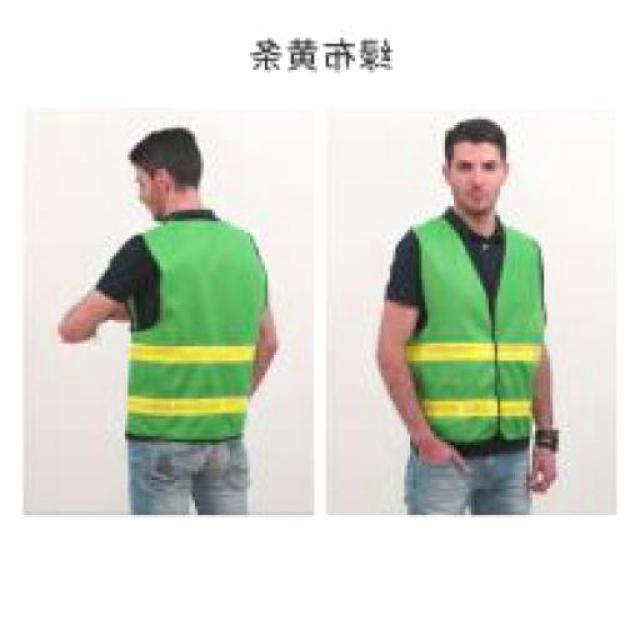face_nomask: (450, 149, 506, 209)
hand_noglove: (522, 440, 564, 496)
head_nohelmet: (128, 122, 204, 183), (439, 113, 512, 159)
person: (58, 116, 282, 516), (368, 111, 574, 516)
vest: (386, 206, 559, 452), (111, 216, 268, 440)
